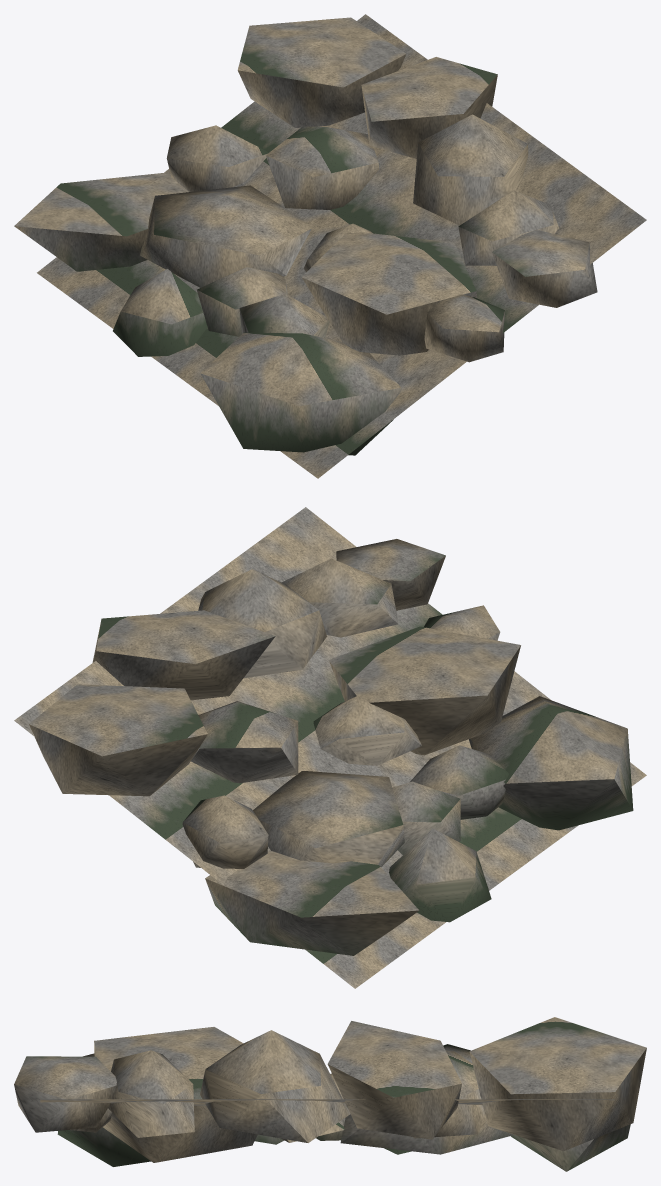
Rendered from SM_Molo_Scogliera_B_LOD1.fbx.
3 views of the same model, one above another, from view 1: azimuth 30°, elevation 25°; view 2: azimuth 150°, elevation 25°; view 3: azimuth 270°, elevation 25° (orthographic). The views are drawn at different scales.
Visible parts, largest first — view 1: SM_Molo_Scogliera_B_LOD1; view 2: SM_Molo_Scogliera_B_LOD1; view 3: SM_Molo_Scogliera_B_LOD1.
Boxes of the visible parts, x1,y1,x2,y2 form: SM_Molo_Scogliera_B_LOD1: (14, 14, 646, 478); SM_Molo_Scogliera_B_LOD1: (14, 507, 646, 988); SM_Molo_Scogliera_B_LOD1: (14, 1017, 646, 1171).
Size of the model in its own units: 650 by 881 by 345.
Materials: 1 (1 with a texture image).
